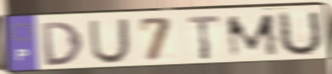7: (137, 16, 178, 64)
D: (39, 20, 86, 68)
M: (224, 12, 282, 60)
T: (185, 14, 223, 62)
U: (278, 9, 325, 58), (87, 17, 132, 65)
